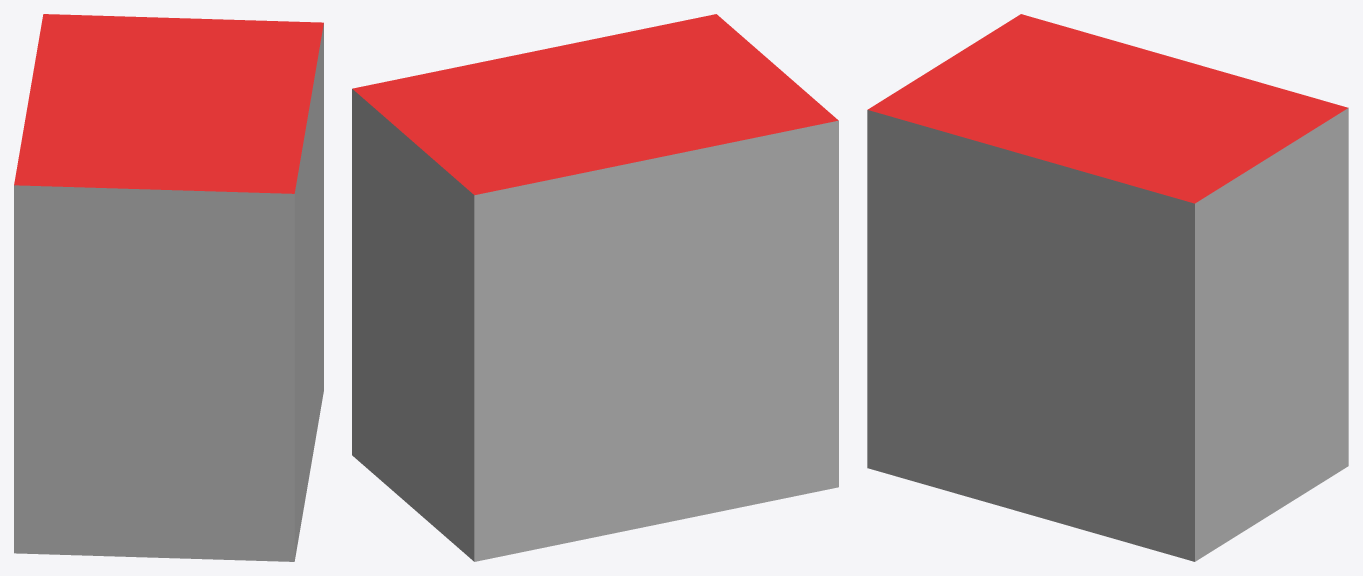
3 renders of one model, left to right at view 1: azimuth 30°, elevation 25°; view 2: azimuth 150°, elevation 25°; view 3: azimuth 270°, elevation 25°, orthographic. The views are drawn at different scales.
Size of the model in its own units: 14.74 by 15.81 by 12.99.
